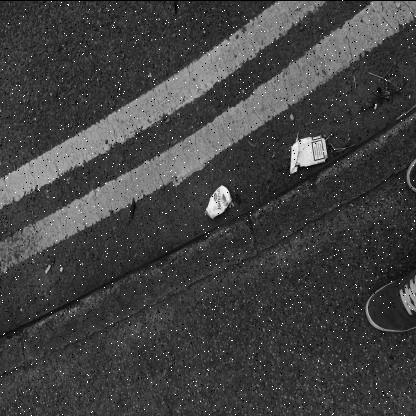cardboard: (290, 134, 328, 174)
plastic: (206, 184, 232, 218)
